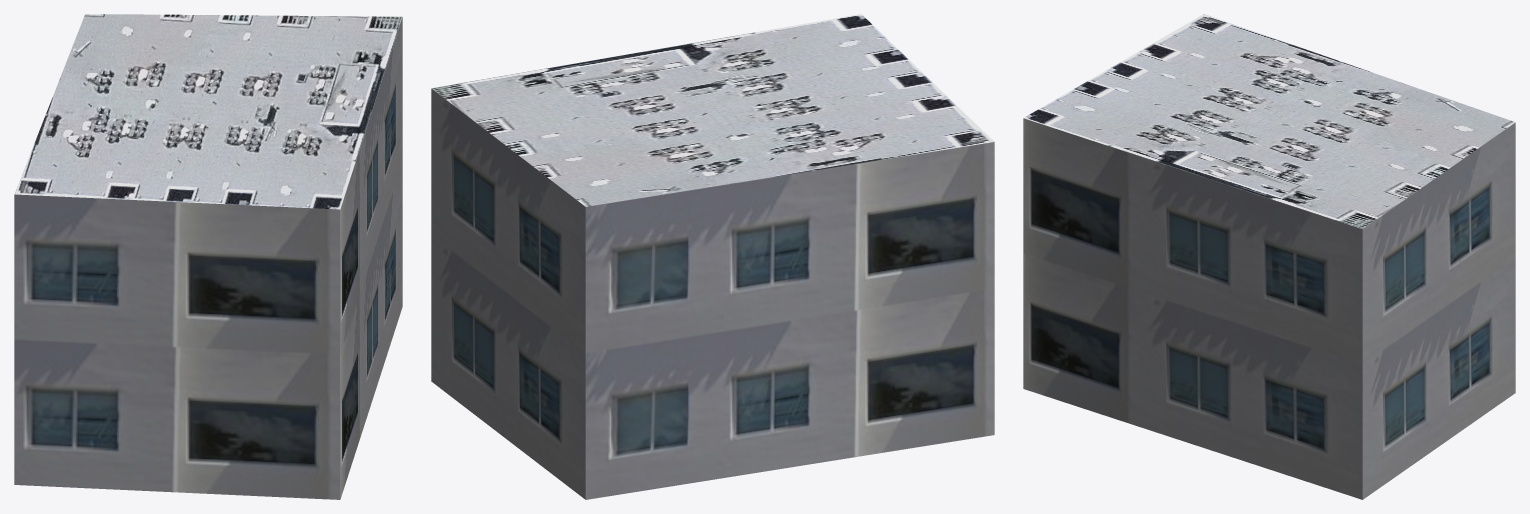
The model's file is ResTex__415.fbx.
3 views of the same model, side by side, from view 1: azimuth 30°, elevation 25°; view 2: azimuth 150°, elevation 25°; view 3: azimuth 270°, elevation 25° (orthographic). The views are drawn at different scales.
Parts seen in each view (by area): view 1: CityEngineMaterial_10_m, CityEngineMaterial_m; view 2: CityEngineMaterial_10_m, CityEngineMaterial_m; view 3: CityEngineMaterial_10_m, CityEngineMaterial_m.
Boxes of the visible parts, left/top/right/bottom form: CityEngineMaterial_10_m: left=14, top=17, right=402, bottom=499; CityEngineMaterial_m: left=14, top=14, right=402, bottom=209; CityEngineMaterial_10_m: left=431, top=88, right=994, bottom=499; CityEngineMaterial_m: left=431, top=14, right=994, bottom=206; CityEngineMaterial_10_m: left=1023, top=118, right=1515, bottom=499; CityEngineMaterial_m: left=1023, top=14, right=1515, bottom=228.
Bounding box in the file's own units: 10.23 × 6 × 9.89.
Materials: 2 (2 with a texture image).
